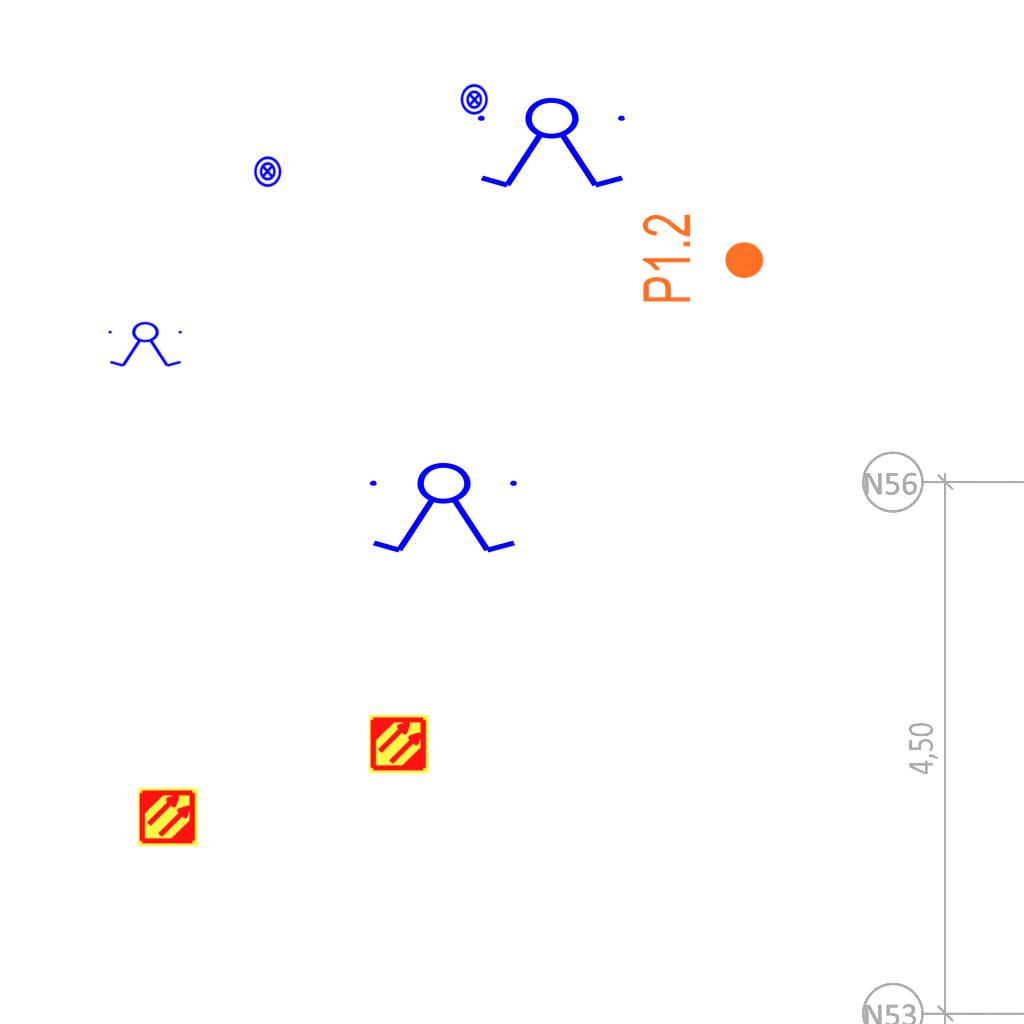ASR_Ansaugrauchmelder: (368, 713, 430, 775), (137, 786, 199, 848)
Downlight_LED_Einbauleuchten_Flur: (639, 212, 767, 305)
Serienschalter: (361, 461, 529, 557), (469, 96, 637, 192), (104, 321, 188, 369)
Taster_beleuchtet: (458, 83, 491, 116), (251, 155, 284, 188)
